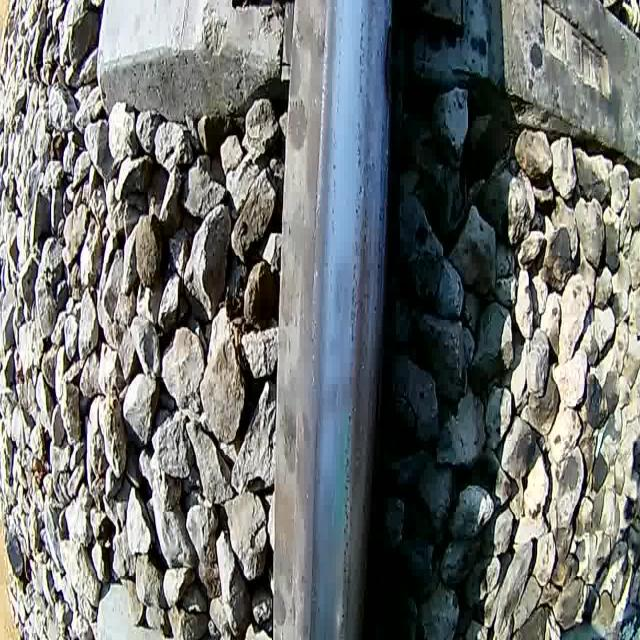Grooves: (307, 1, 330, 296), (307, 408, 324, 640)
Shellings: (336, 399, 360, 640), (348, 173, 373, 397), (375, 111, 389, 378), (354, 0, 373, 174), (330, 12, 344, 243)
Squats: (374, 3, 400, 125), (283, 97, 311, 154), (286, 28, 304, 103), (277, 401, 301, 457), (270, 588, 288, 632)
